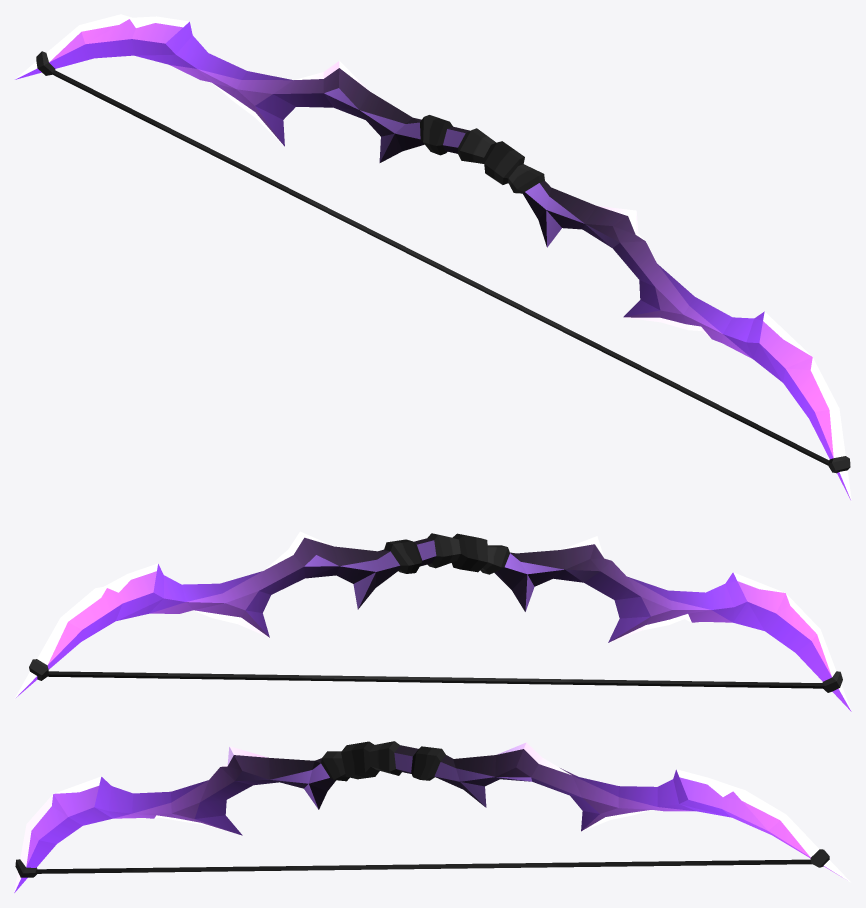
The model's file is pr-bow-04.glb.
3 renders of one model, top to bottom at view 1: azimuth 90°, elevation 25°; view 2: azimuth 150°, elevation 25°; view 3: azimuth 270°, elevation 25°, orthographic.
Parts seen in each view (by area): view 1: pr-bow-04; view 2: pr-bow-04; view 3: pr-bow-04.
Boxes of the visible parts, x1,y1,x2,y2 form: pr-bow-04: [14, 14, 851, 501]; pr-bow-04: [14, 531, 851, 711]; pr-bow-04: [14, 741, 850, 893].
Size of the model in its own units: 0.8363 by 0.5734 by 1.44.
1 material, 1 textured.
